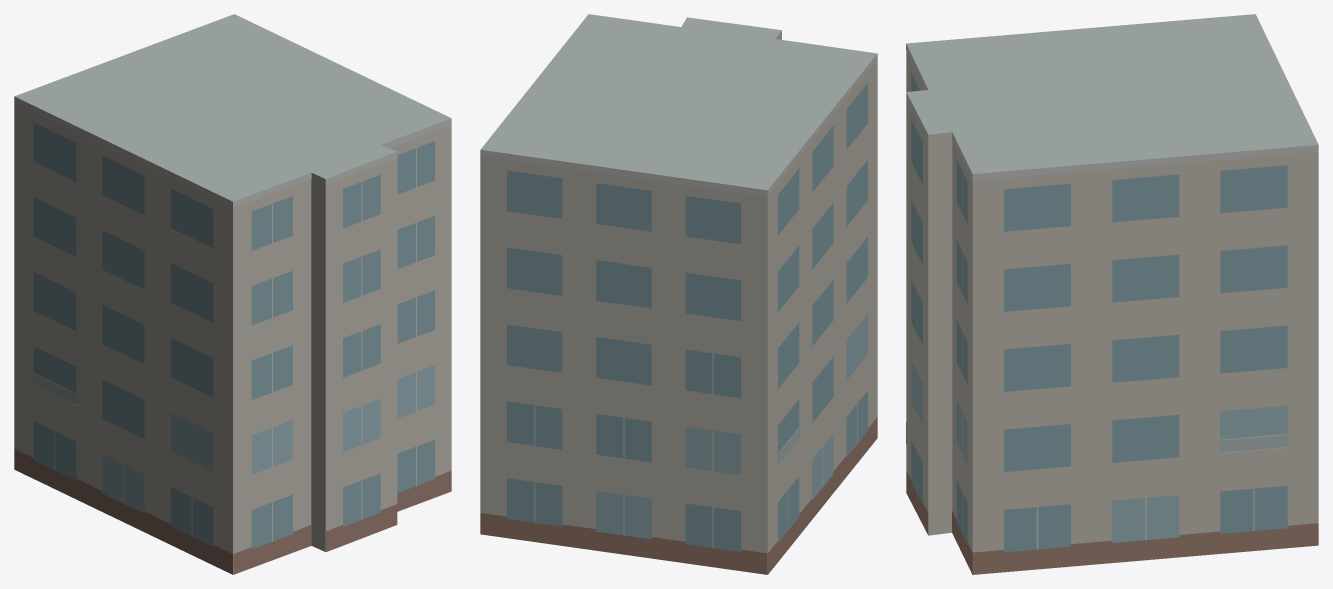
File: survey-upis-32799279.glb
The picture shows the model from 3 angles, left to right: view 1: azimuth 30°, elevation 25°; view 2: azimuth 150°, elevation 25°; view 3: azimuth 270°, elevation 25°; orthographic projection. The views are drawn at different scales.
Visible parts, largest first — view 1: survey-upis-32799279.tmp; view 2: survey-upis-32799279.tmp; view 3: survey-upis-32799279.tmp.
Part boxes in pixels (<box>): survey-upis-32799279.tmp: <box>14,14,451,574</box>; survey-upis-32799279.tmp: <box>480,14,877,574</box>; survey-upis-32799279.tmp: <box>906,14,1318,574</box>.
Size of the model in its own units: 12.27 by 14.3 by 13.35.
